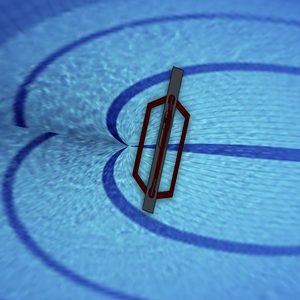submarine: (110, 41, 209, 222)
